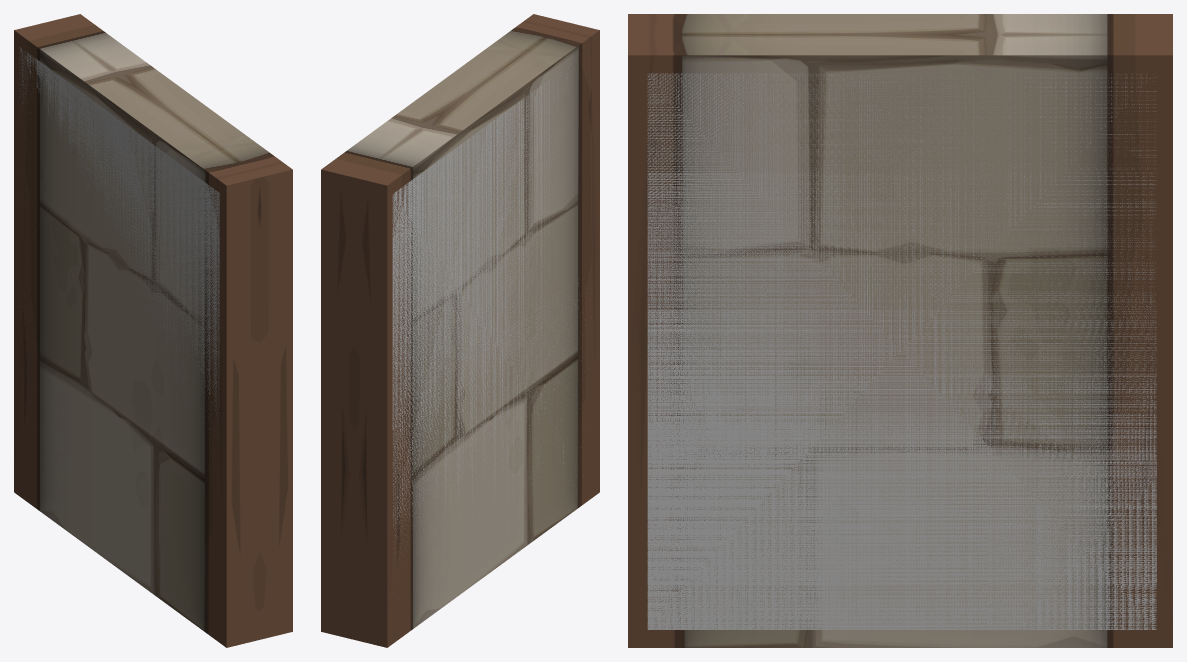
Rendered from SM_Bld_Wall_Quarter_01.fbx.
3 renders of one model, left to right at view 1: azimuth 30°, elevation 25°; view 2: azimuth 150°, elevation 25°; view 3: azimuth 270°, elevation 25°, orthographic. The views are drawn at different scales.
Visible parts, largest first — view 1: SM_Bld_Wall_Quarter_01, SM_Bld_Wall_Quarter_01_ConvexHulls; view 2: SM_Bld_Wall_Quarter_01, SM_Bld_Wall_Quarter_01_ConvexHulls; view 3: SM_Bld_Wall_Quarter_01, SM_Bld_Wall_Quarter_01_ConvexHulls.
Part boxes in pixels (left/top/right/bottom): SM_Bld_Wall_Quarter_01: left=14, top=14, right=292, bottom=647; SM_Bld_Wall_Quarter_01_ConvexHulls: left=19, top=47, right=219, bottom=439; SM_Bld_Wall_Quarter_01: left=321, top=14, right=599, bottom=647; SM_Bld_Wall_Quarter_01_ConvexHulls: left=392, top=67, right=576, bottom=553; SM_Bld_Wall_Quarter_01: left=628, top=14, right=1172, bottom=647; SM_Bld_Wall_Quarter_01_ConvexHulls: left=647, top=73, right=1156, bottom=629.
Size of the model in its own units: 22.5 by 125 by 150.
Materials: 2 (1 with a texture image).
